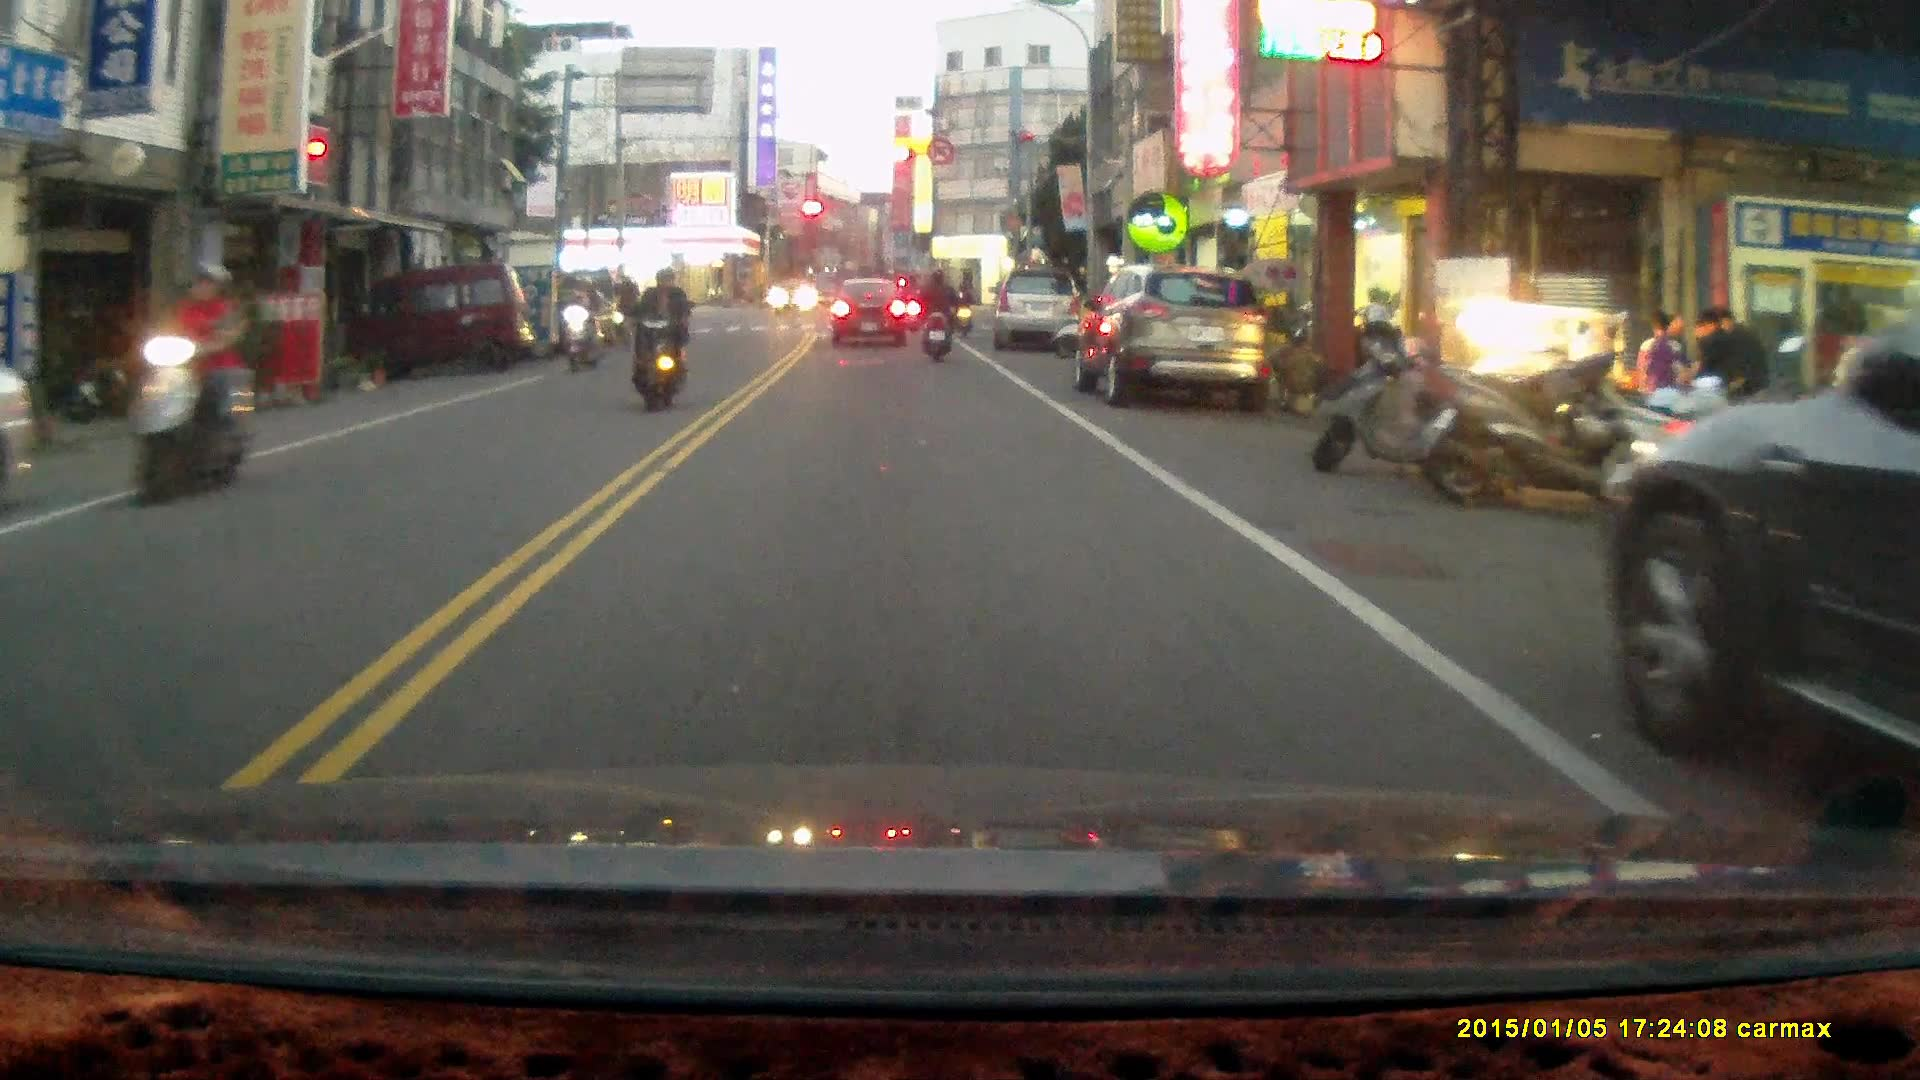pedestrian: (1693, 311, 1752, 452), (1635, 306, 1684, 447)
rider: (124, 256, 252, 509), (619, 266, 690, 414), (557, 270, 605, 373), (915, 265, 956, 366), (606, 272, 643, 356), (896, 269, 922, 329), (952, 279, 976, 339)
vehicle: (1605, 298, 1920, 819), (1075, 267, 1275, 413), (340, 266, 538, 381), (999, 267, 1084, 352)
